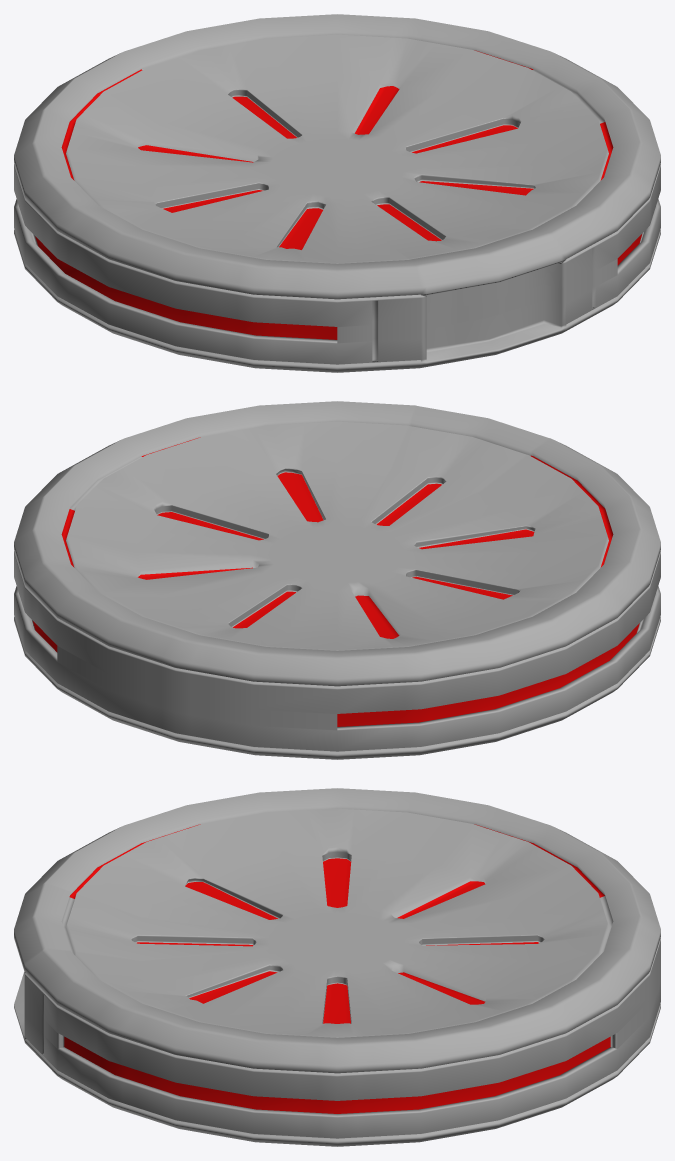
File: Robot_Dock.fbx
3 views of the same model, one above another, from view 1: azimuth 30°, elevation 25°; view 2: azimuth 150°, elevation 25°; view 3: azimuth 270°, elevation 25° (orthographic).
Parts seen in each view (by area): view 1: Robot_Base_Model; view 2: Robot_Base_Model; view 3: Robot_Base_Model.
Boxes of the visible parts, x1=… form: Robot_Base_Model: x1=14, y1=14, x2=660, y2=372; Robot_Base_Model: x1=14, y1=401, x2=660, y2=759; Robot_Base_Model: x1=14, y1=788, x2=660, y2=1146.
Bounding box in the file's own units: 10.64 × 1.76 × 10.64.
